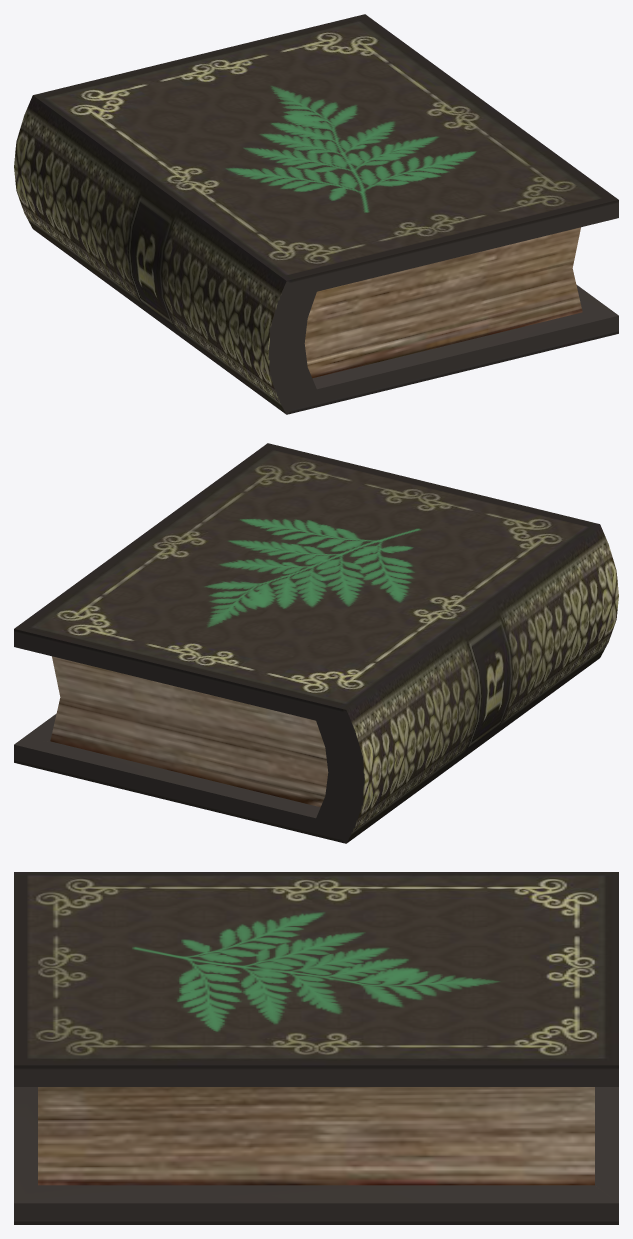
File: Book_N6.fbx
3 renders of one model, top to bottom at view 1: azimuth 30°, elevation 25°; view 2: azimuth 150°, elevation 25°; view 3: azimuth 270°, elevation 25°, orthographic. The views are drawn at different scales.
Visible parts, largest first — view 1: Book_N6; view 2: Book_N6; view 3: Book_N6.
Part boxes in pixels (x1,y1,x2,y2): Book_N6: [14, 14, 618, 414]; Book_N6: [14, 443, 618, 843]; Book_N6: [14, 872, 618, 1224].
Bounding box in the file's own units: 52.83 × 19.24 × 66.13.
